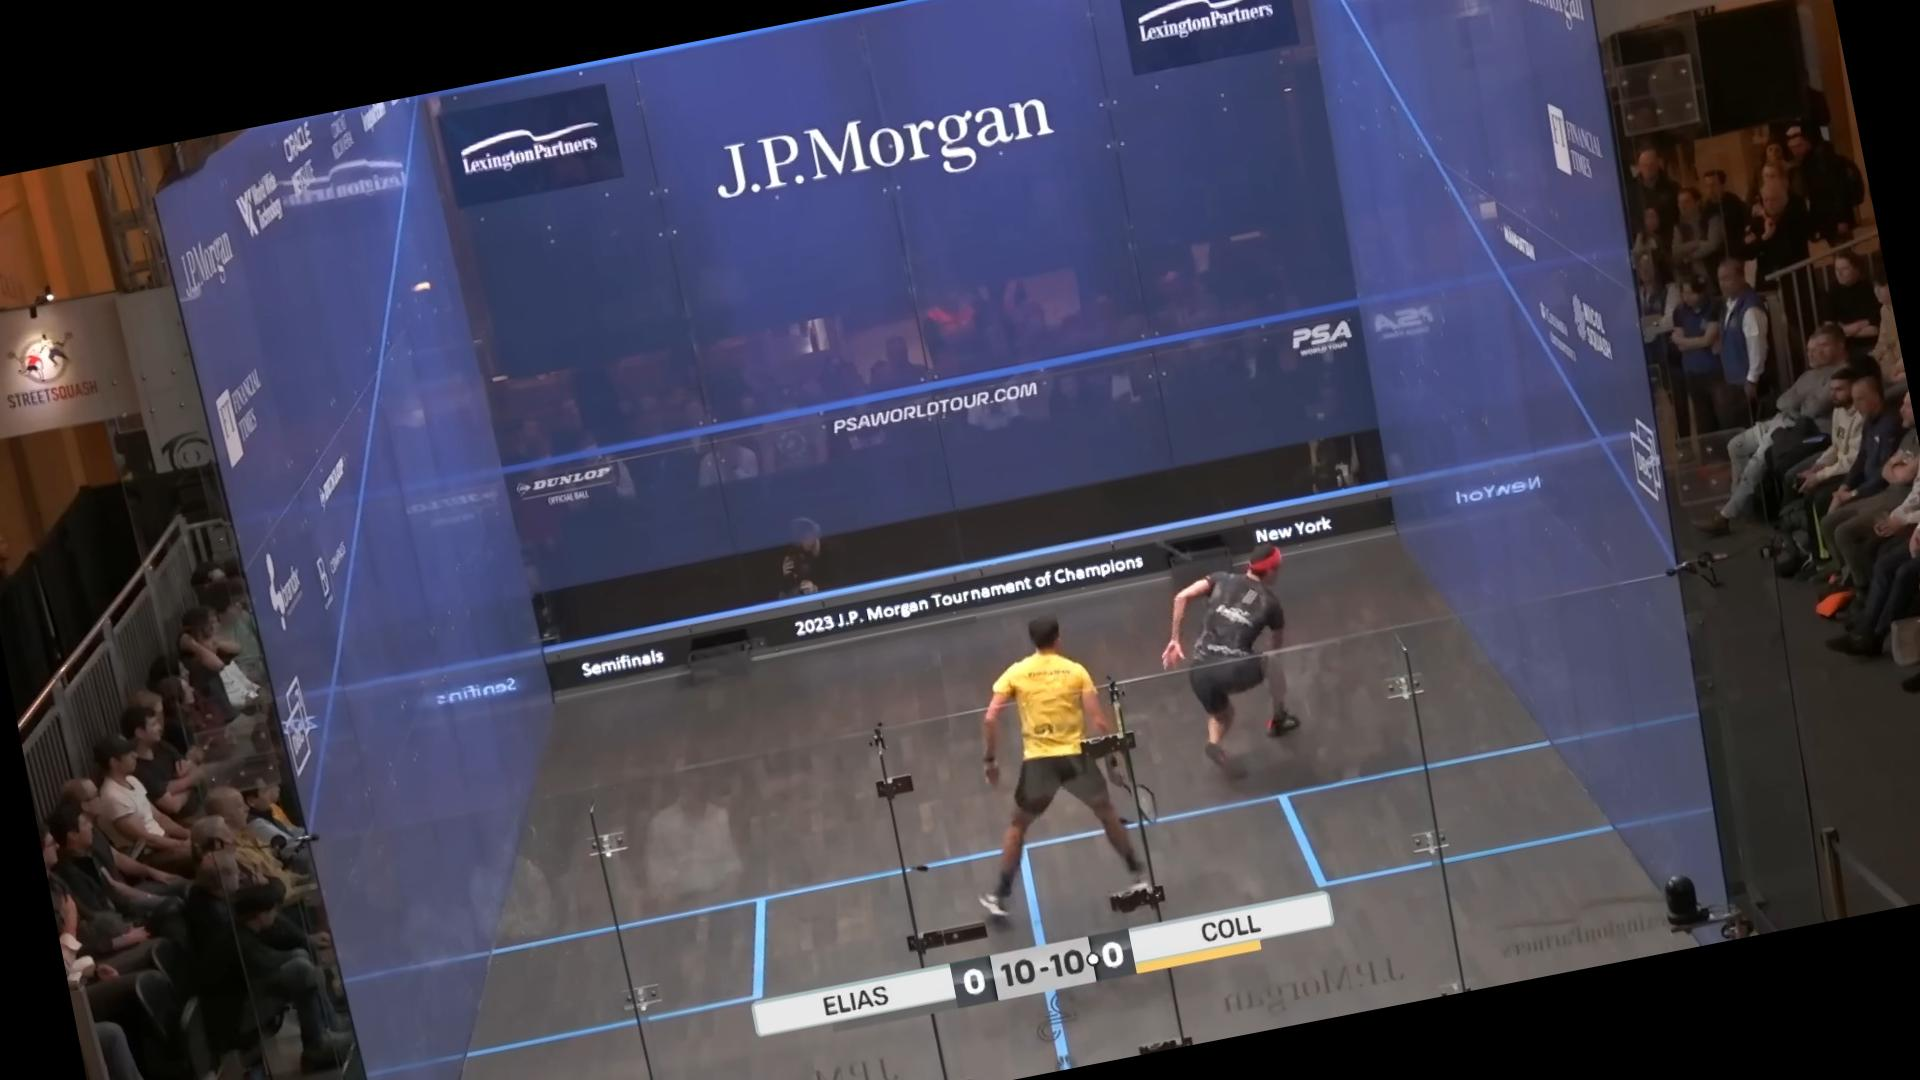Racket: (1106, 762, 1170, 831)
